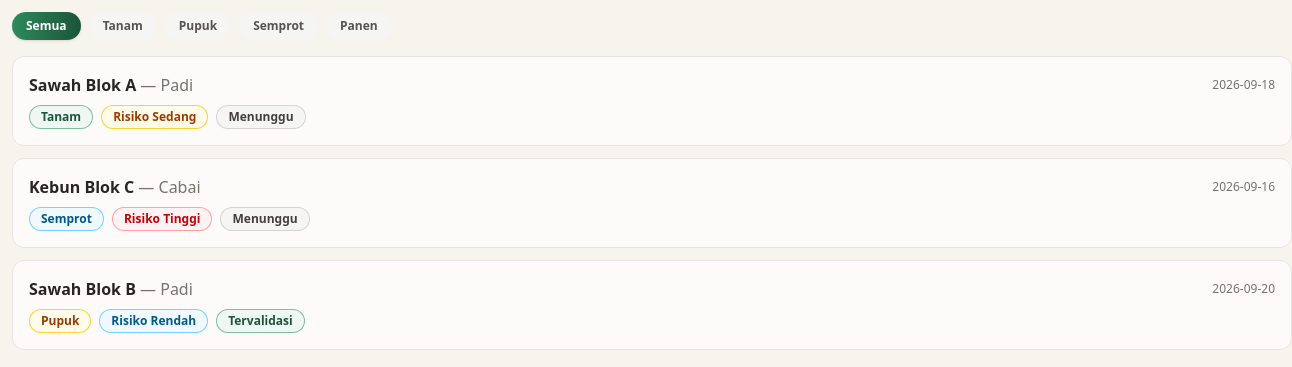
RecommendationsListClient › menampilkan semua rekomendasi dan filter aktivitas menyaringnya
Expected: the number of list items is 3, x1=12 y1=56 x2=1291 y2=146; x1=12 y1=158 x2=1291 y2=248; x1=12 y1=260 x2=1291 y2=350
Click the button "Pupuk". click: x=198, y=26
box: x1=165 y1=12 x2=231 y2=40
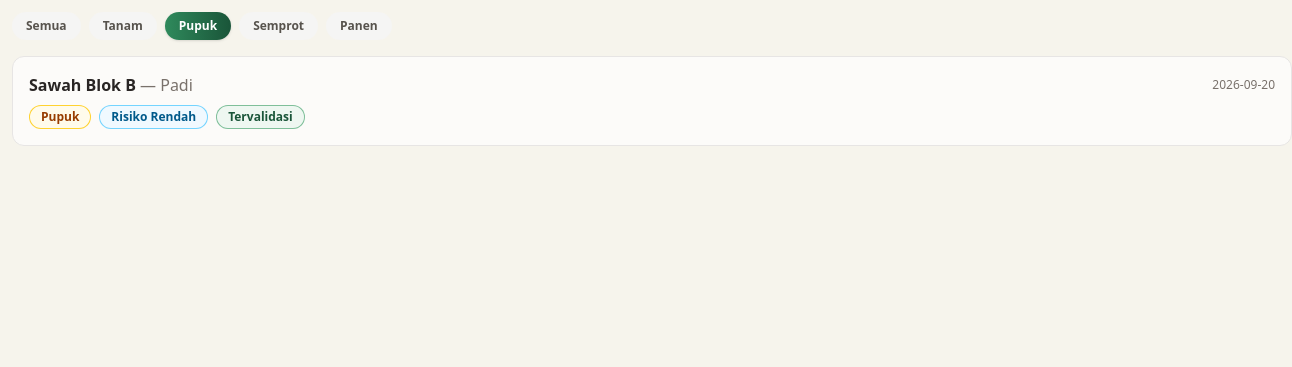
Expected: the list item shows "Sawah Blok B", x1=29 y1=74 x2=136 y2=96
Expected: the number of list items is 1, x1=12 y1=56 x2=1291 y2=146
